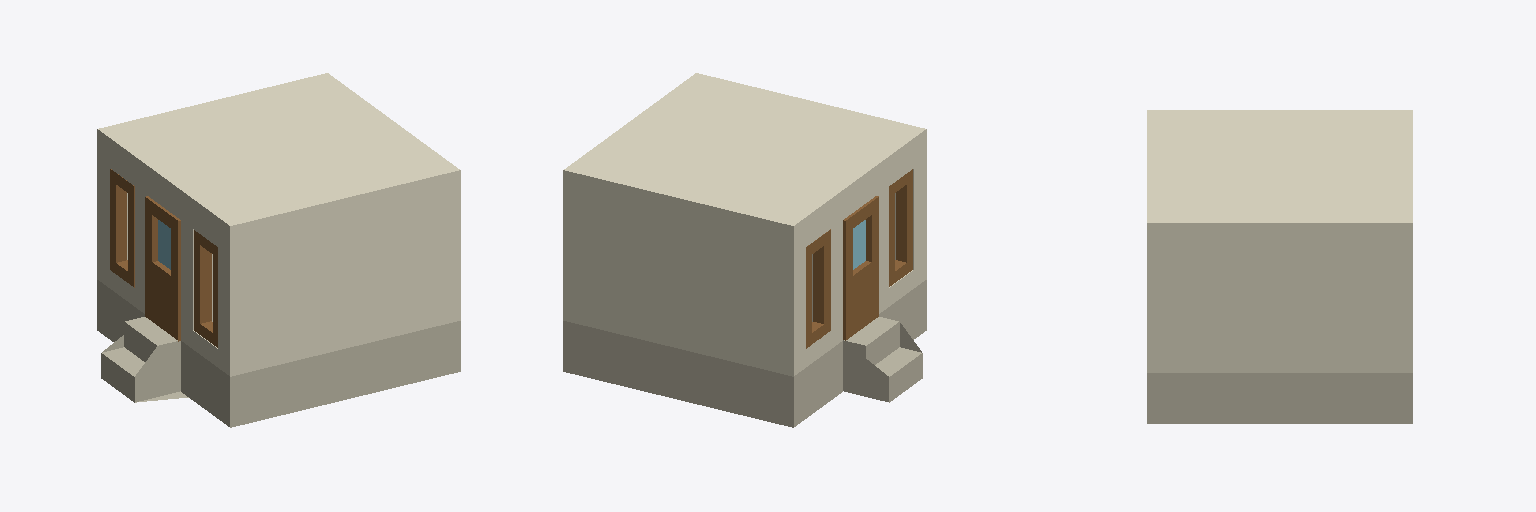
The model's file is nonRicordo.obj.
3 views of the same model, side by side, from view 1: azimuth 30°, elevation 25°; view 2: azimuth 150°, elevation 25°; view 3: azimuth 270°, elevation 25° (orthographic).
Parts seen in each view (by area): view 1: Mesh1_Group1_Model, Mesh1_Group1_Model.003, Mesh1_Group1_Model.002, Mesh1_Group1_Model.001; view 2: Mesh1_Group1_Model, Mesh1_Group1_Model.003, Mesh1_Group1_Model.002, Mesh1_Group1_Model.001; view 3: Mesh1_Group1_Model.
Part boxes in pixels (x1,y1,x2,y2): Mesh1_Group1_Model: (97, 73, 460, 427); Mesh1_Group1_Model.003: (145, 196, 180, 341); Mesh1_Group1_Model.002: (110, 169, 134, 287); Mesh1_Group1_Model.001: (194, 230, 217, 347); Mesh1_Group1_Model: (563, 73, 926, 427); Mesh1_Group1_Model.003: (843, 196, 878, 340); Mesh1_Group1_Model.002: (806, 229, 830, 348); Mesh1_Group1_Model.001: (889, 169, 912, 286); Mesh1_Group1_Model: (1147, 110, 1412, 423).
Size of the model in its own units: 1.2 by 0.8375 by 1.